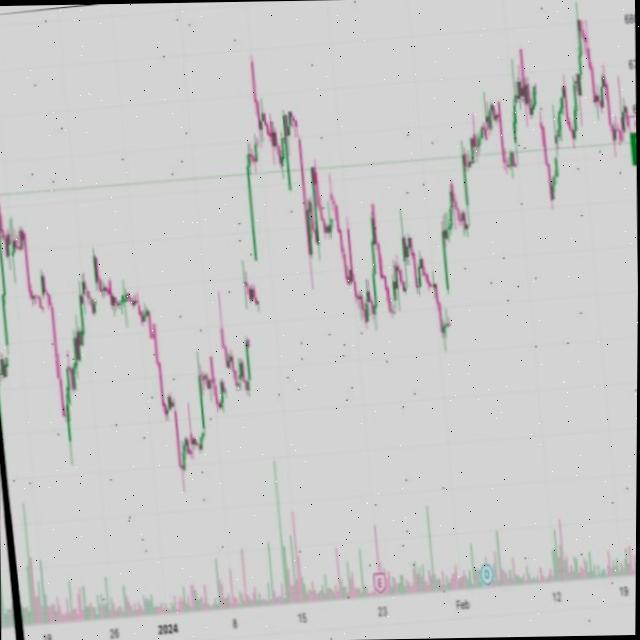Gap Up: (241, 298, 255, 346), (248, 252, 261, 294), (443, 284, 456, 322), (222, 358, 233, 394)
